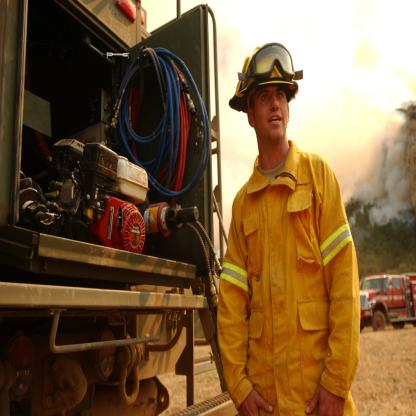Helmet: (226, 40, 300, 118)
